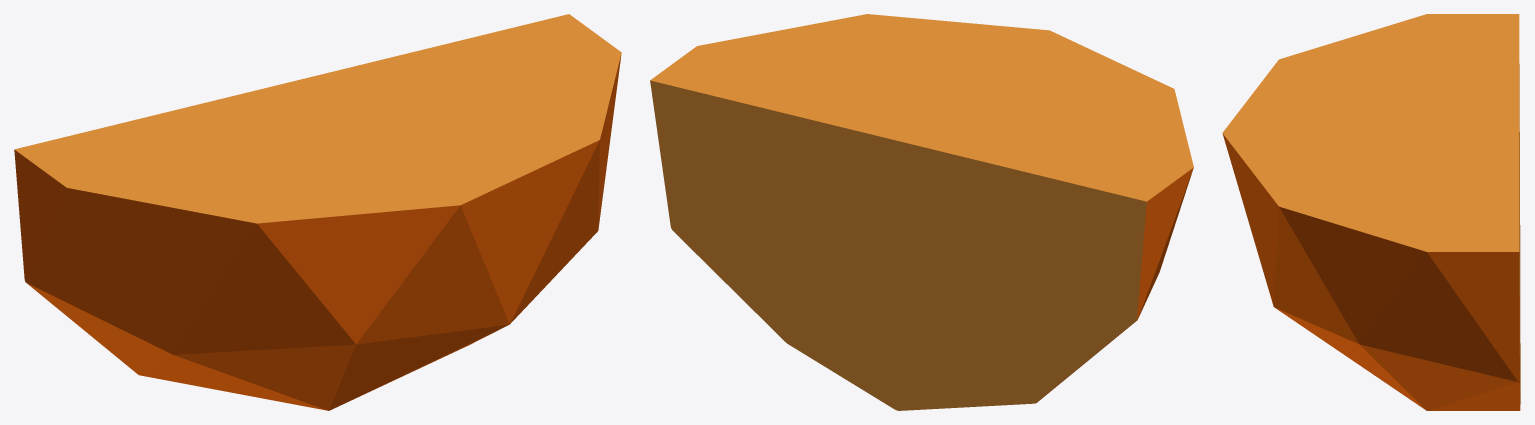
Rendered from OrangeQu4.fbx.
3 views of the same model, side by side, from view 1: azimuth 30°, elevation 25°; view 2: azimuth 150°, elevation 25°; view 3: azimuth 270°, elevation 25° (orthographic). The views are drawn at different scales.
Visible parts, largest first — view 1: OrangeQu4; view 2: OrangeQu4; view 3: OrangeQu4.
Part boxes in pixels (x1,y1,x2,y2): OrangeQu4: [14, 14, 621, 410]; OrangeQu4: [650, 14, 1193, 410]; OrangeQu4: [1222, 14, 1520, 410].
Size of the model in its own units: 194 by 101 by 103.
